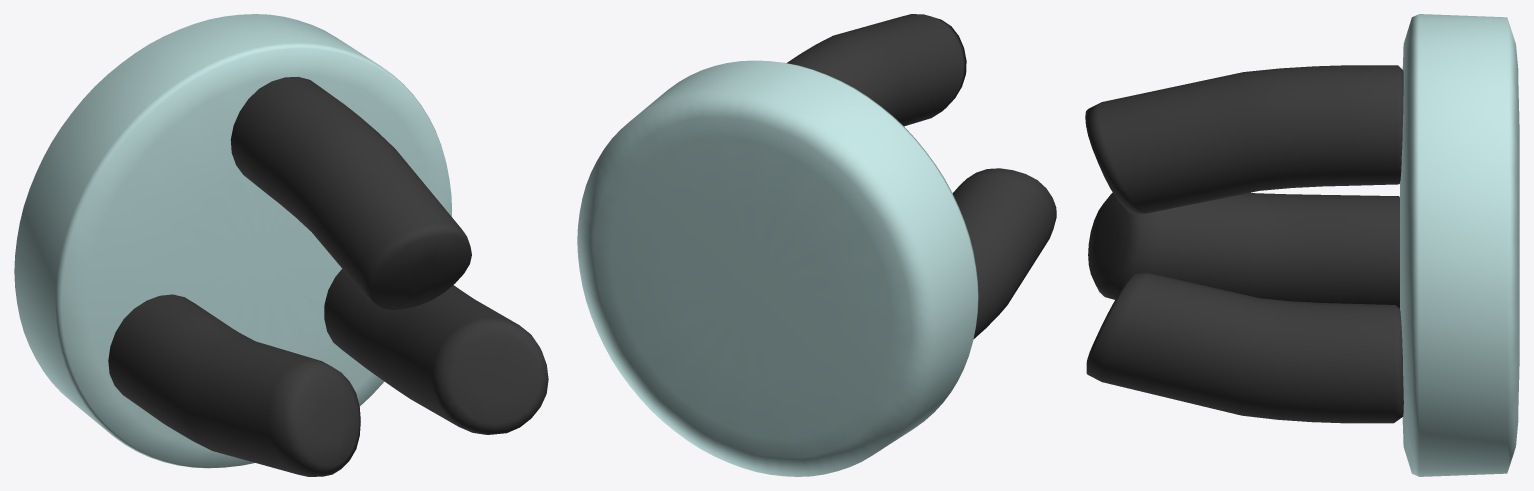
File: hand2.fbx
3 views of the same model, side by side, from view 1: azimuth 30°, elevation 25°; view 2: azimuth 150°, elevation 25°; view 3: azimuth 270°, elevation 25° (orthographic). The views are drawn at different scales.
Visible parts, largest first — view 1: pCylinder20; view 2: pCylinder20; view 3: pCylinder20.
Boxes of the visible parts, x1,y1,x2,y2 form: pCylinder20: (14, 14, 548, 476); pCylinder20: (577, 14, 1056, 476); pCylinder20: (1085, 14, 1519, 476).
Bounding box in the file's own units: 2.64 × 2.64 × 2.48.
